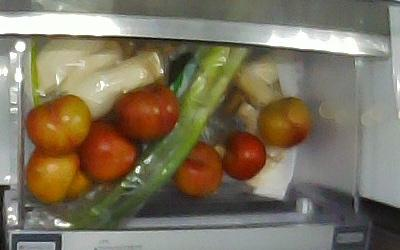prune: (112, 82, 180, 143), (24, 93, 91, 152), (78, 118, 139, 180), (25, 145, 78, 205), (170, 139, 223, 196), (255, 95, 311, 148), (220, 130, 266, 180)
